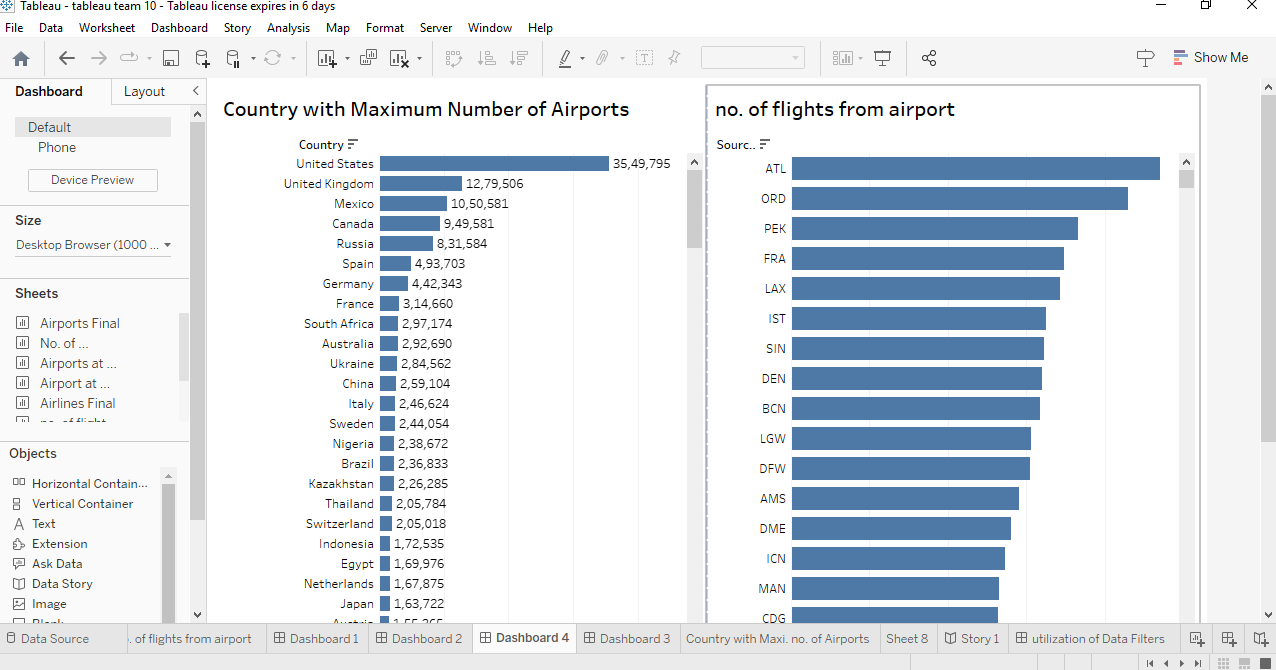

The page's visual inventory and layout, read from the dashboard file:
{"tool":"tableau","page":{"name":"Dashboard 4","canvas":[1000,800],"ordinal":3},"visuals":[{"type":"worksheet","title":"Country with Maxi. no. of Airports","mark":"Automatic","rows":["Country"],"cols":["index (routes.csv)"],"box":[8,8,492,784]},{"type":"worksheet","title":"no. of flights from airport","mark":"Automatic","rows":["Source airport"],"cols":["index (routes.csv)"],"box":[500,8,492,784]}]}

Visuals, with their boxes on the page's 1000x800 design canvas (x1, y1, x2, y2). These are canvas units, not pixel positions in the 1276x670 screenshot, which may show the page scaled, cropped or inside an application window:
"Country with Maxi. no. of Airports" worksheet: left=8, top=8, right=500, bottom=792
"no. of flights from airport" worksheet: left=500, top=8, right=992, bottom=792
